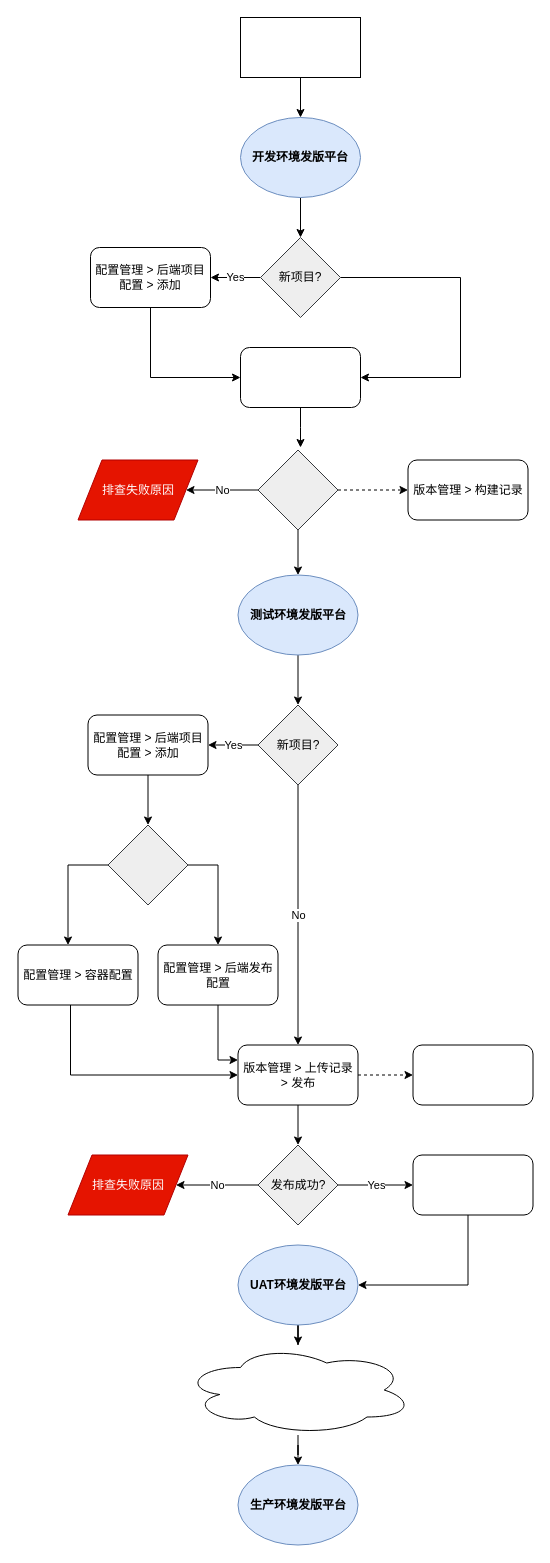
Image size: 550x1563. Some labels were removed from this diagram. Here are the shapes that lost their labels. From the top down, the centre of each, then its label:
At point 300,47: "申请账号".
At point 300,377: "版本管理 > 打包任务".
At point 297,489: "构建成功?".
At point 147,864: "容器发布?".
At point 472,1074: "版本管理 > 环境管理".
At point 472,1184: "版本管理 > 部署记录 > 流转".
At point 297,1389: "流程同 测试环境发版平台".
